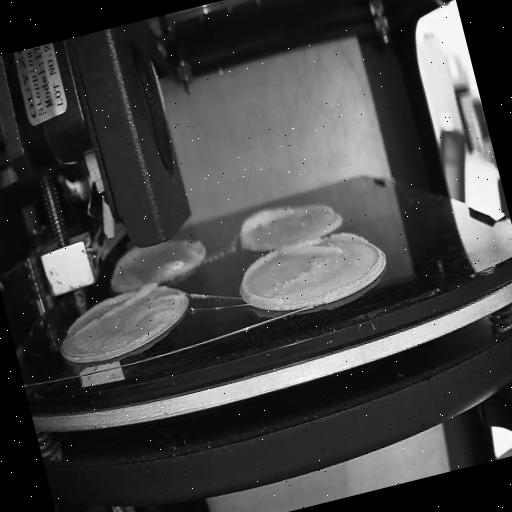over_extrusion: (71, 278, 169, 336), (279, 221, 373, 273), (233, 248, 291, 314), (230, 200, 300, 248), (312, 197, 333, 217)
